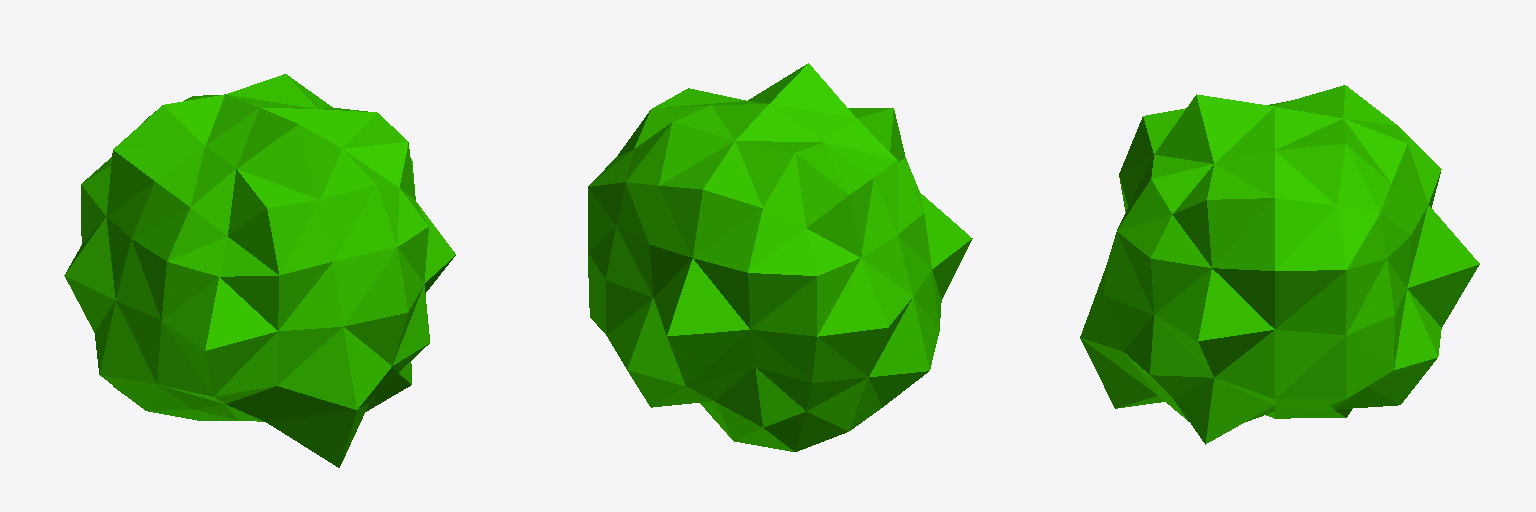
Rendered from Star.obj.
3 renders of one model, left to right at view 1: azimuth 30°, elevation 25°; view 2: azimuth 150°, elevation 25°; view 3: azimuth 270°, elevation 25°, orthographic.
Visible parts, largest first — view 1: Cube; view 2: Cube; view 3: Cube.
Boxes of the visible parts, x1,y1,x2,y2 form: Cube: [64, 74, 455, 467]; Cube: [588, 63, 972, 451]; Cube: [1080, 85, 1479, 444].
Size of the model in its own units: 0.5016 by 0.4878 by 0.5453.